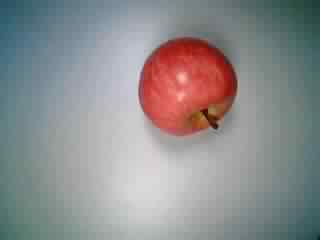apple: (135, 38, 240, 140)
